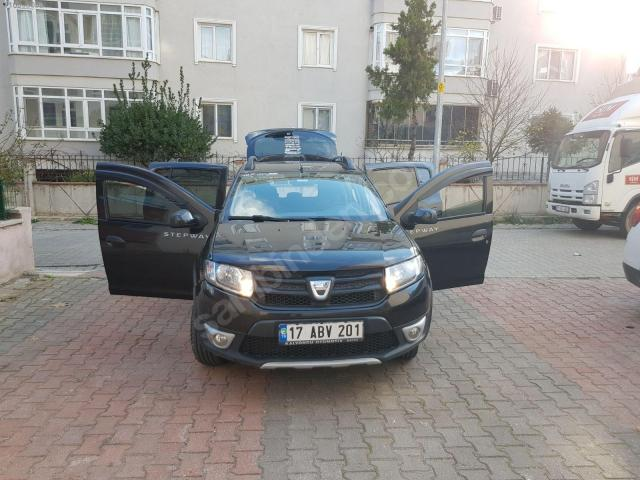plaka: (279, 321, 364, 344)
